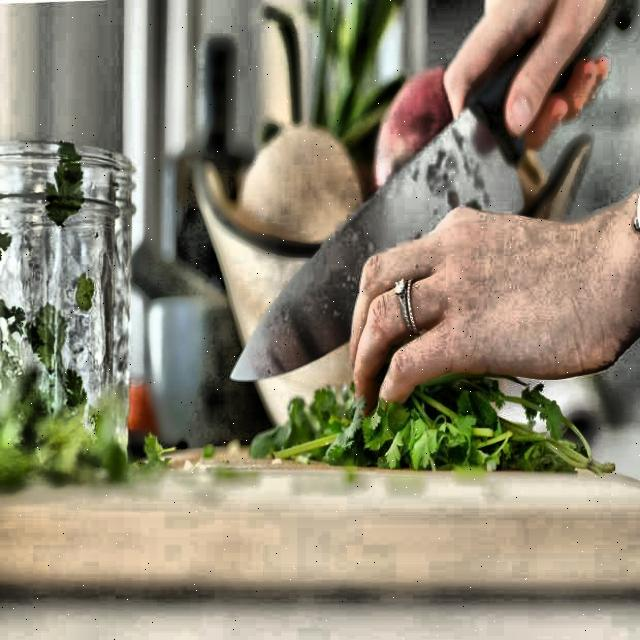knife: (229, 2, 636, 379)
